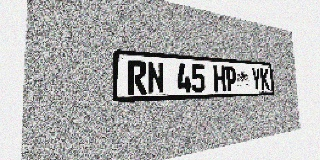4: (176, 63, 192, 93)
5: (191, 64, 206, 93)
H: (213, 65, 226, 92)
K: (260, 68, 270, 90)
N: (147, 61, 165, 94)
P: (225, 66, 237, 92)
R: (127, 60, 147, 95)
Y: (251, 67, 261, 91)
